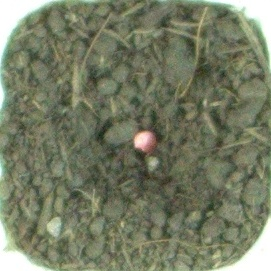pepper seed: (53, 51, 212, 206)
